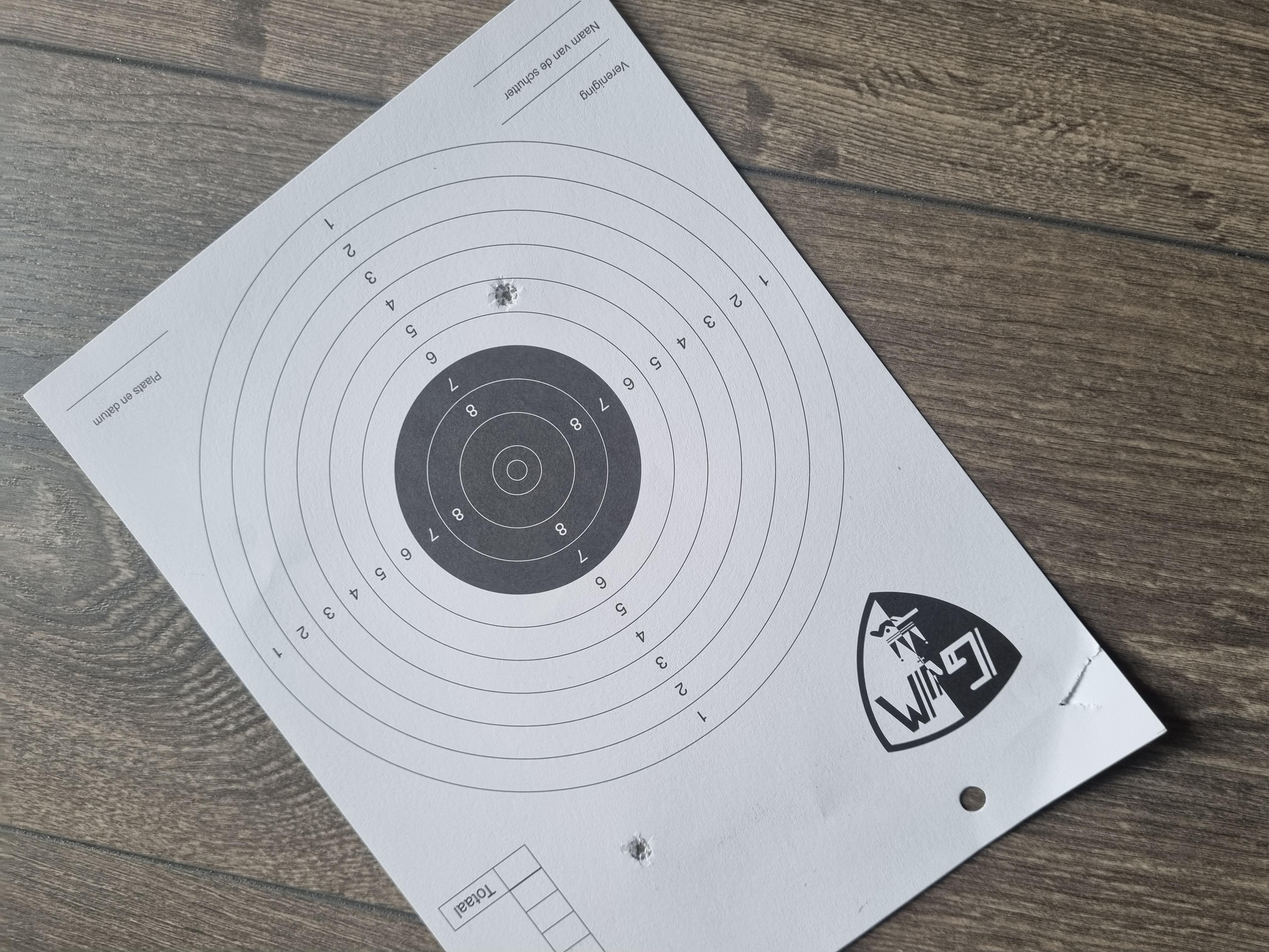hole: (856, 367, 900, 393), (113, 467, 158, 490)
